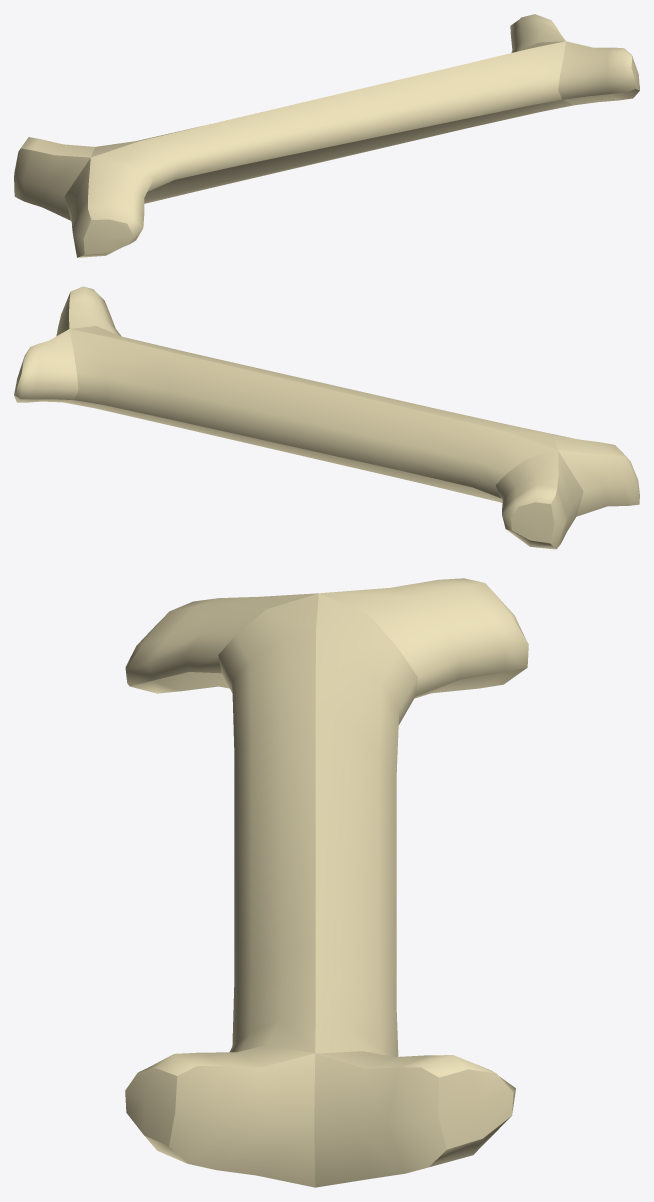
The model's file is kemik.fbx.
The picture shows the model from 3 angles, top to bottom: view 1: azimuth 30°, elevation 25°; view 2: azimuth 150°, elevation 25°; view 3: azimuth 270°, elevation 25°; orthographic projection. The views are drawn at different scales.
Parts seen in each view (by area): view 1: kemik; view 2: kemik; view 3: kemik.
Boxes of the visible parts, x1,y1,x2,y2 form: kemik: [14, 14, 639, 257]; kemik: [14, 286, 639, 549]; kemik: [125, 578, 528, 1187].
Size of the model in its own units: 125 by 16.32 by 39.02.
